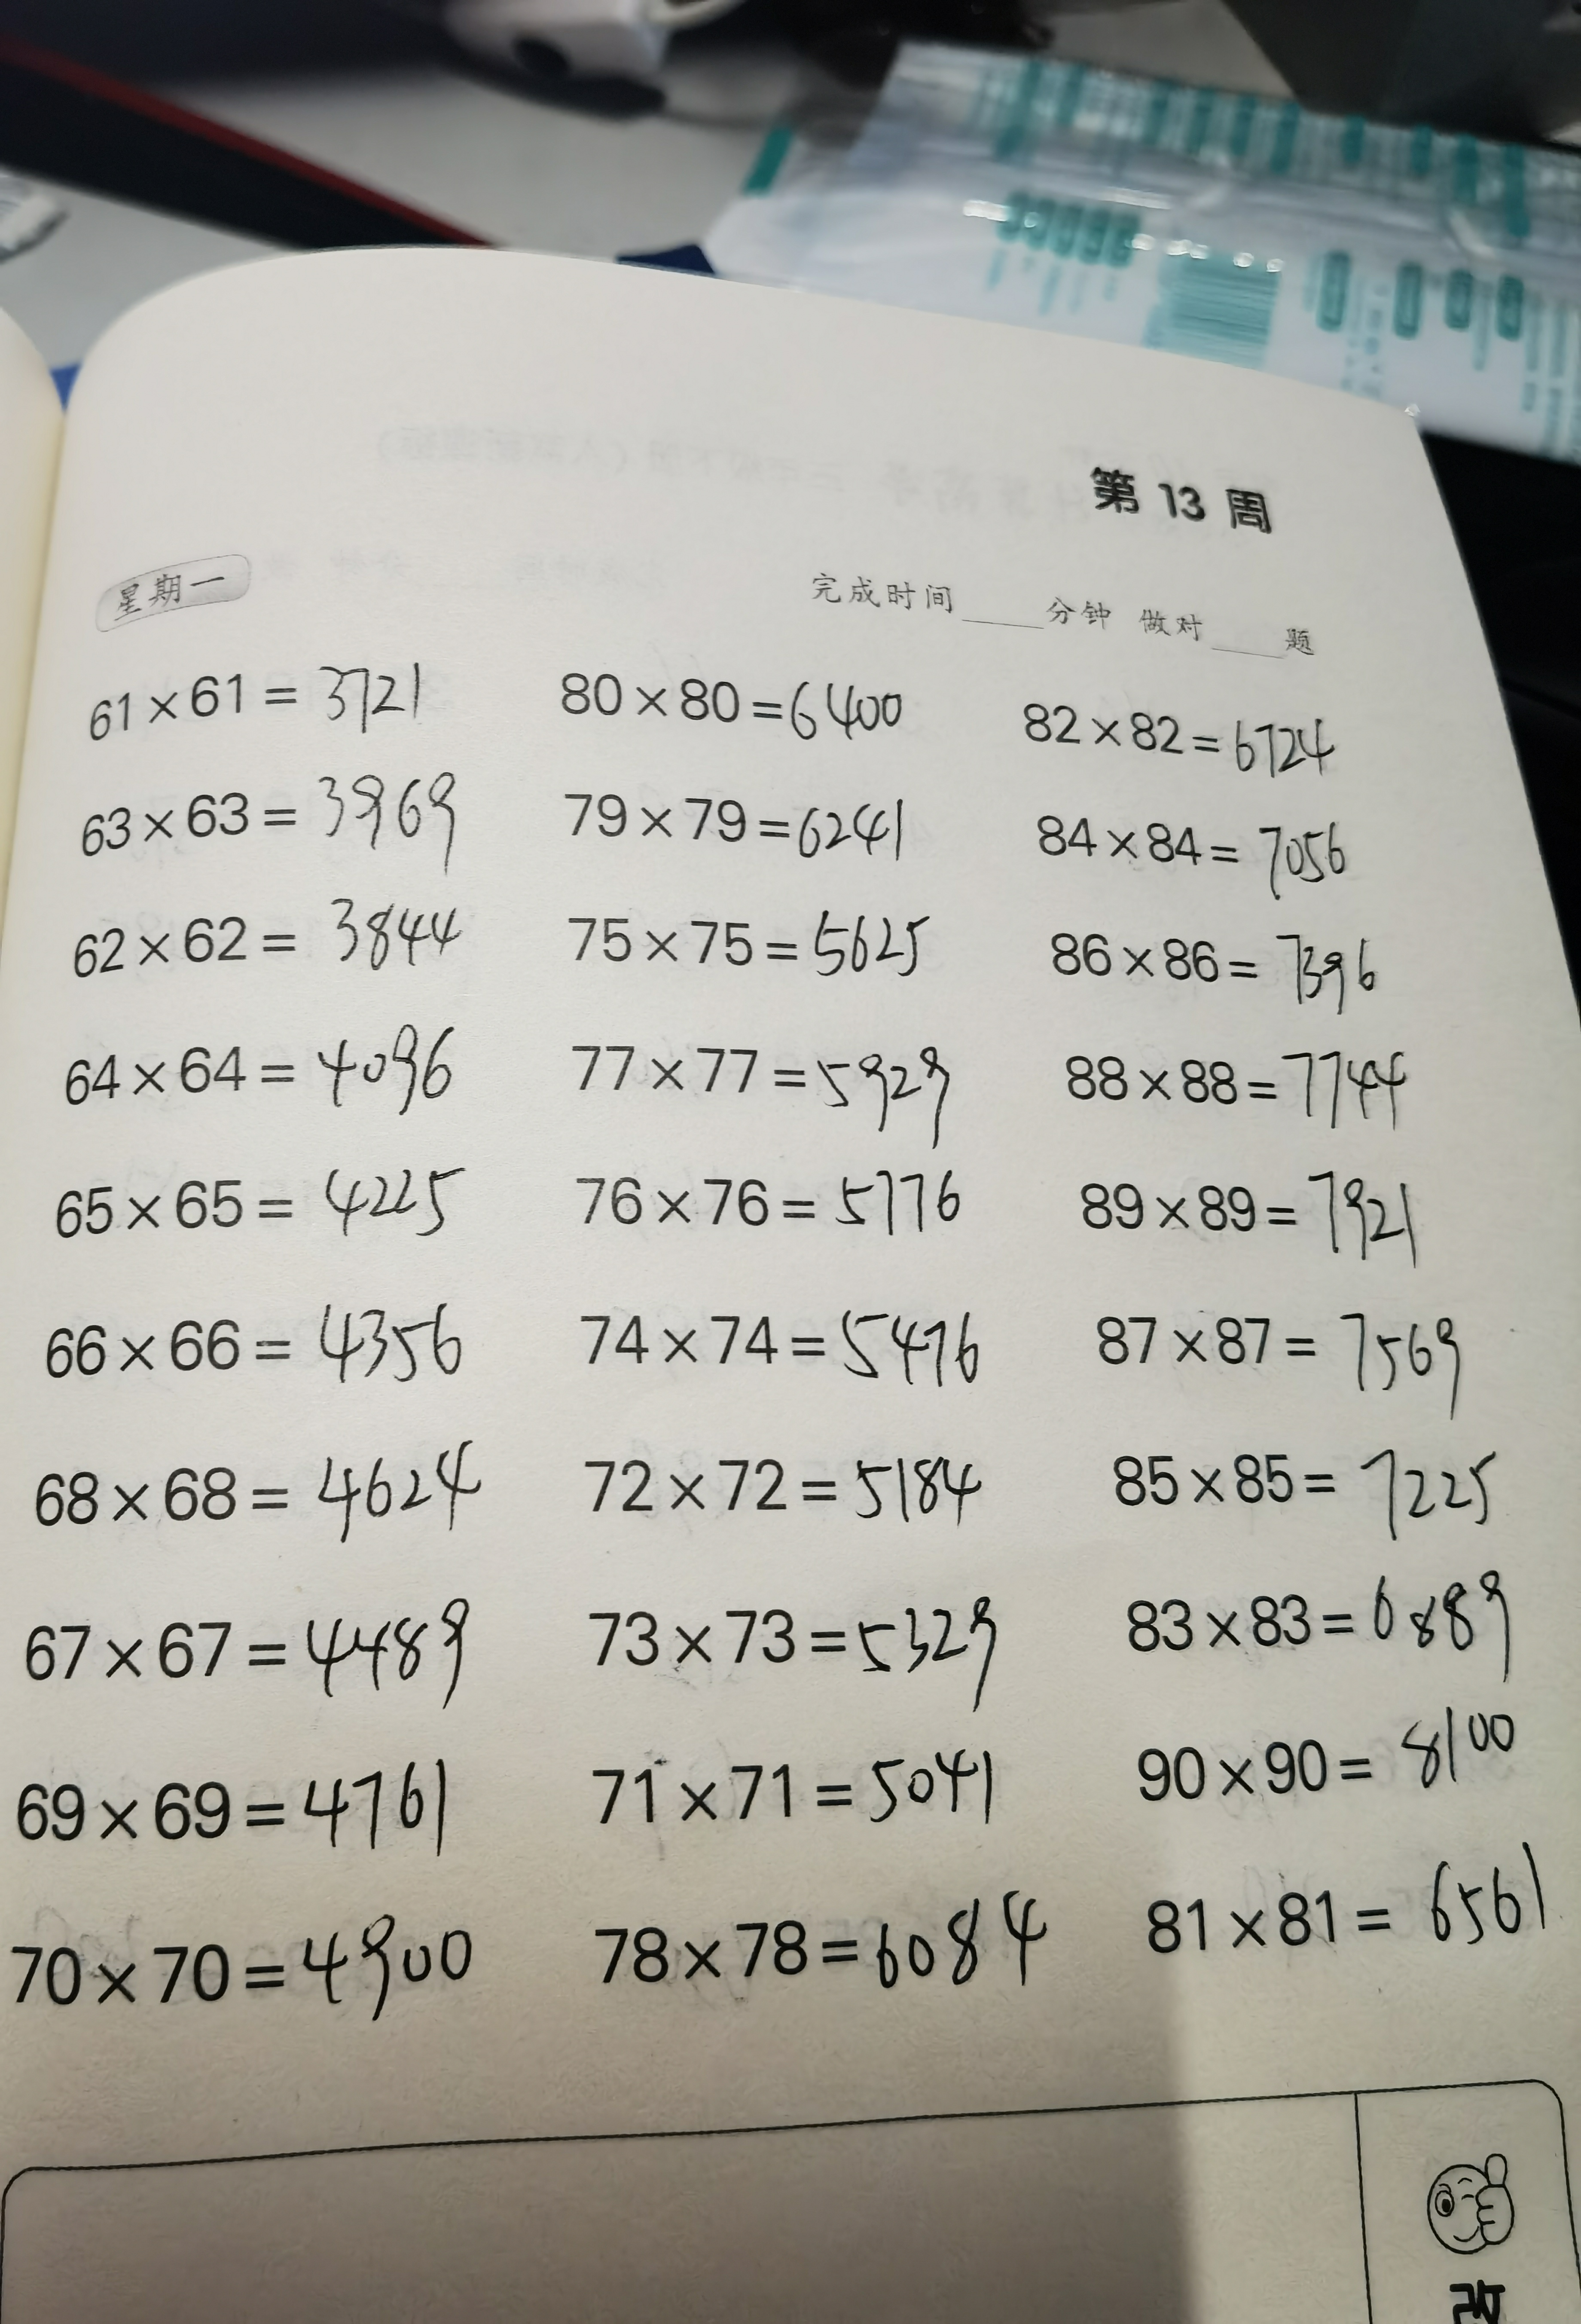equation: (1138, 1839, 1568, 1985), (580, 1894, 1065, 2021), (25, 1748, 485, 1879), (18, 1602, 494, 1724), (987, 664, 1388, 808), (552, 1031, 1004, 1157), (570, 1434, 1008, 1561), (577, 1590, 1027, 1714), (13, 1152, 487, 1269), (1108, 1556, 1535, 1685), (28, 1293, 496, 1408), (25, 1009, 465, 1129), (30, 1440, 501, 1550), (565, 1293, 1023, 1403), (552, 897, 1011, 1006), (18, 1922, 484, 2028), (1099, 1428, 1501, 1550), (571, 1745, 1030, 1851), (520, 638, 936, 753), (34, 884, 472, 992), (1087, 1303, 1482, 1422), (1070, 1169, 1475, 1284), (1113, 1710, 1537, 1820), (47, 753, 485, 856), (1053, 1035, 1451, 1147), (549, 1167, 989, 1265), (544, 770, 946, 877), (1049, 909, 1400, 1028), (1018, 811, 1389, 911), (44, 662, 460, 734)
